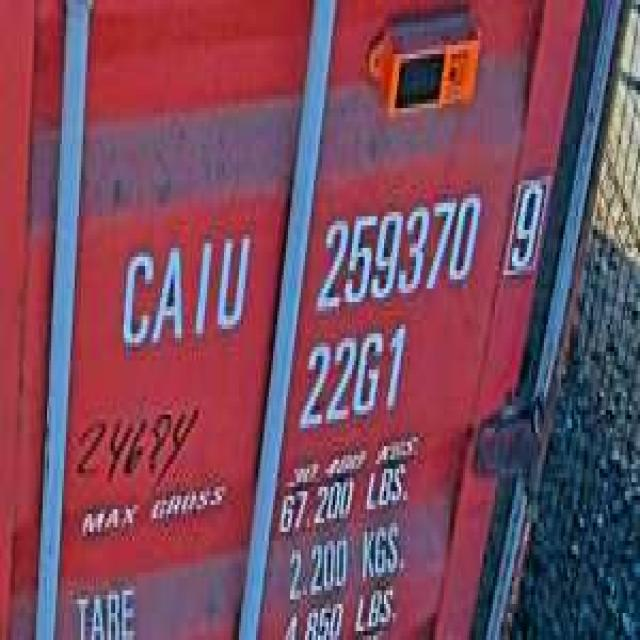dv: (502, 162, 548, 284)
owner: (113, 217, 252, 361)
serial: (314, 185, 484, 315)
size: (294, 320, 410, 433)
